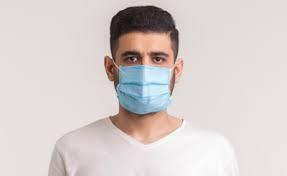mask: (114, 62, 173, 118)
